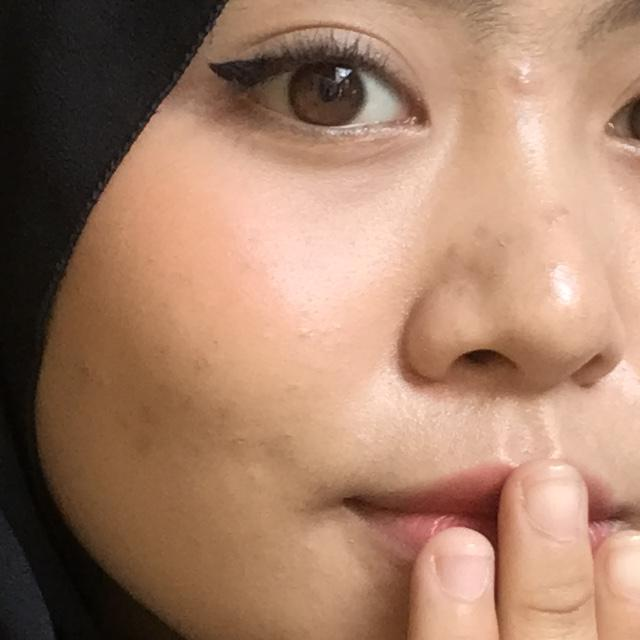ganteng: (90, 436, 640, 640)
